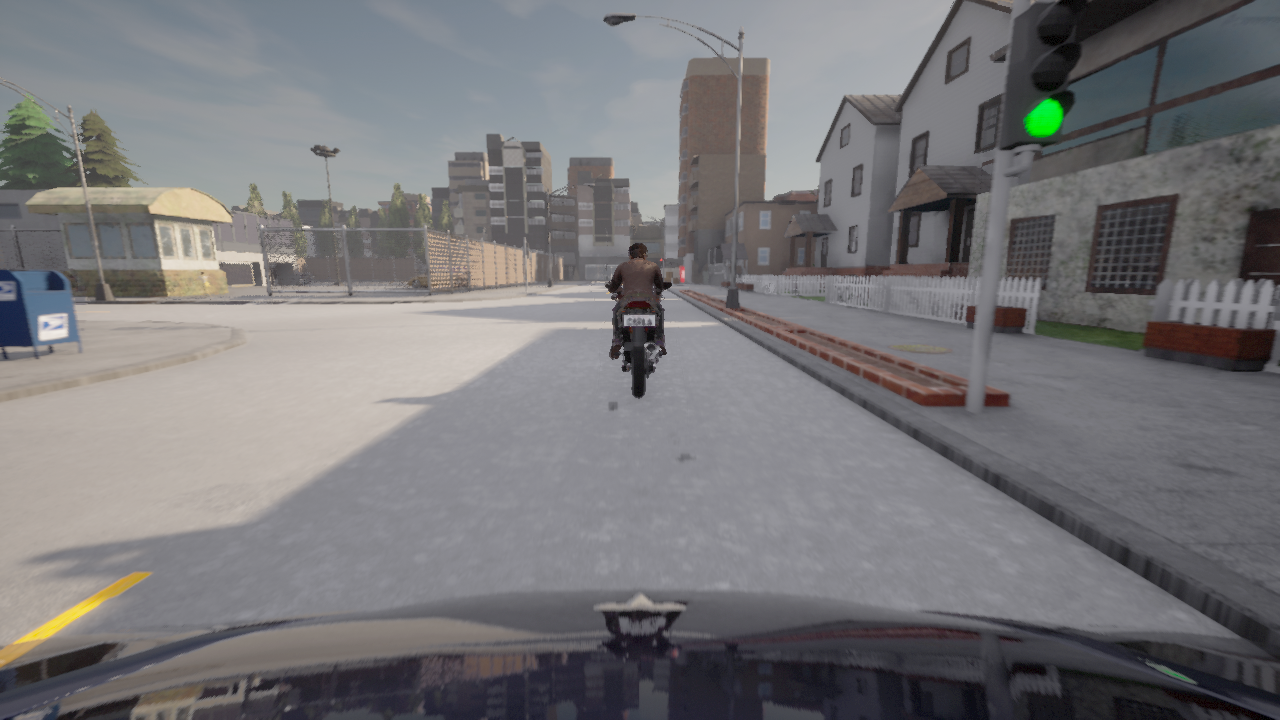cyclist: (0, 588, 1279, 719), (605, 282, 670, 397), (408, 268, 467, 288), (452, 268, 476, 283), (469, 265, 477, 272)
pedestrian: (195, 271, 212, 299)
